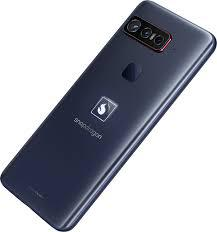Smartphone: (10, 2, 205, 232)
